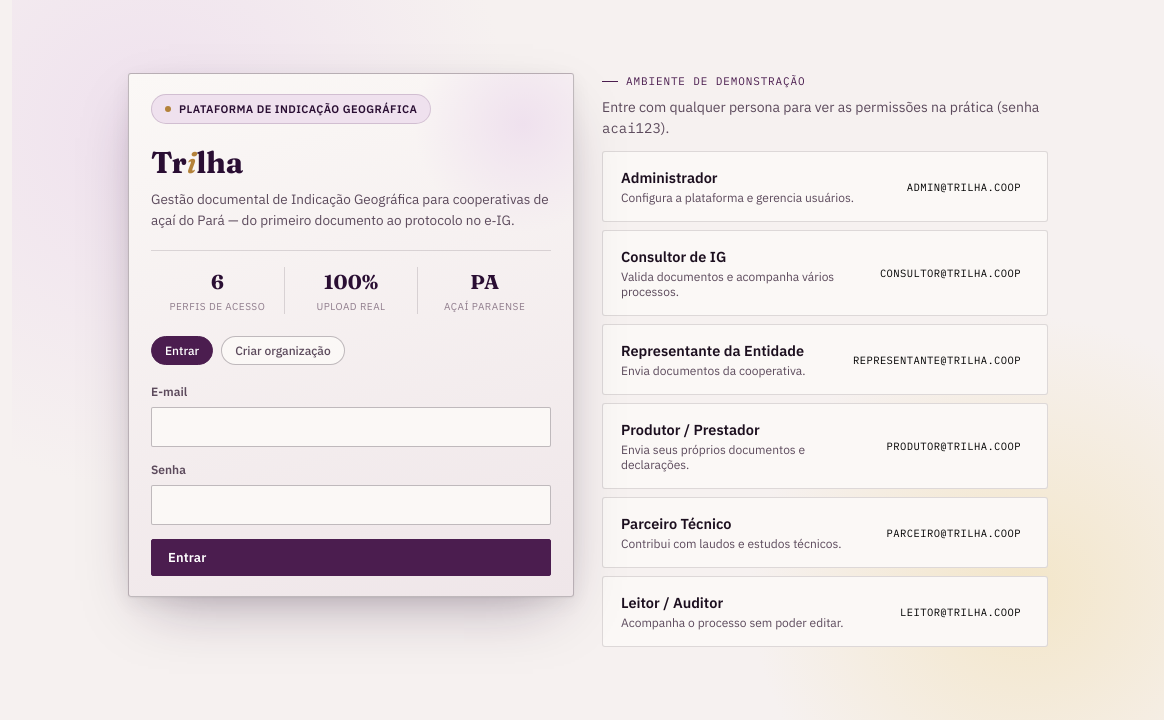
Test: Autenticação › sair volta para a tela de login
Click the text "admin@trilha.coop" at (964, 187), box [899,177,1029,197]
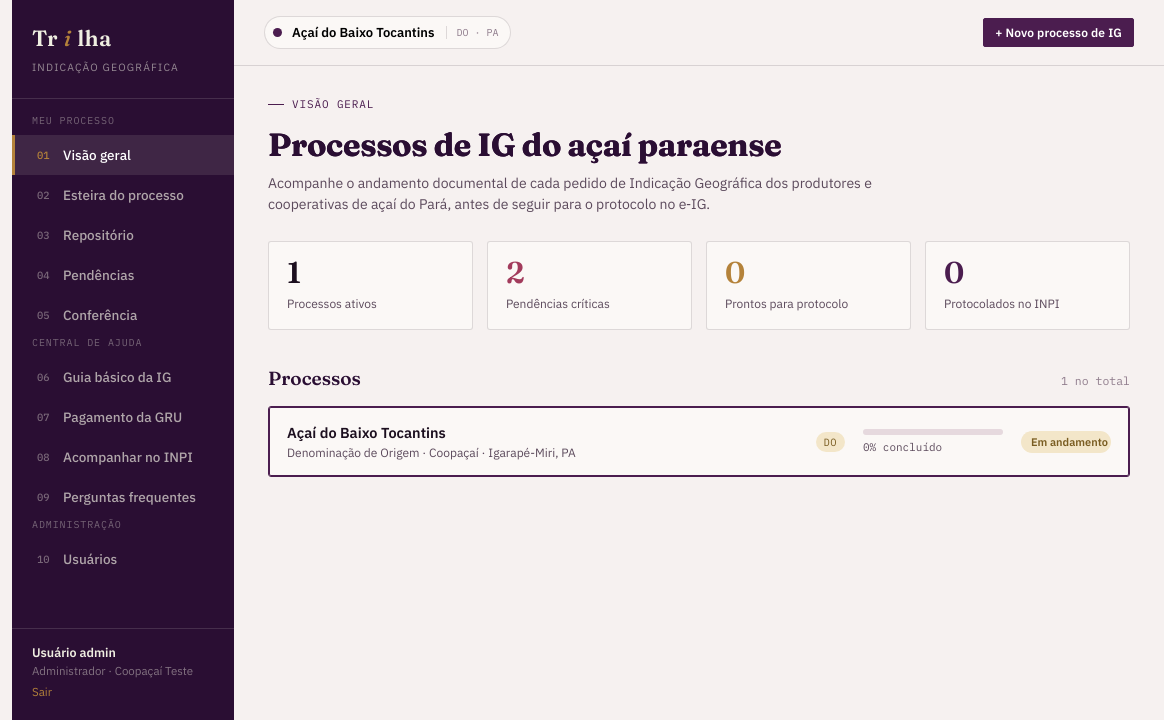
Now the heading "Processos de IG do açaí paraense" is shown, box [268,120,1130,168]
Click the button "Sair" at (42, 691), box [32,684,52,699]
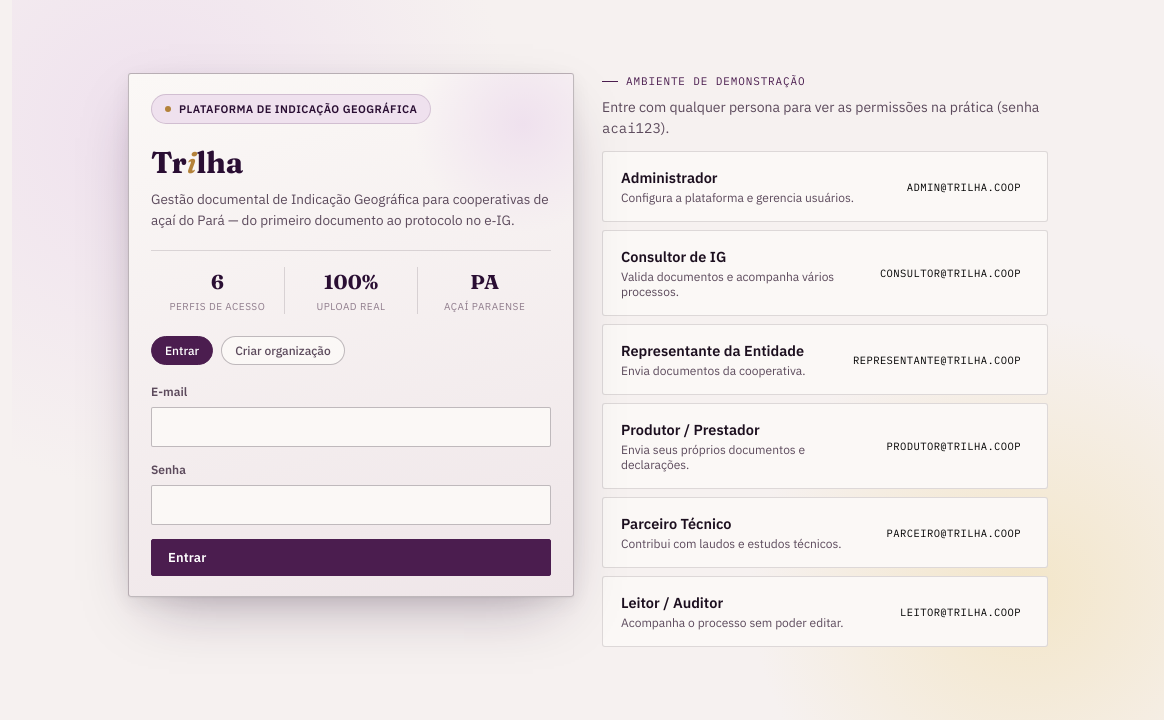
Now the text "Ambiente de demonstração" is shown, box [626,74,806,88]
